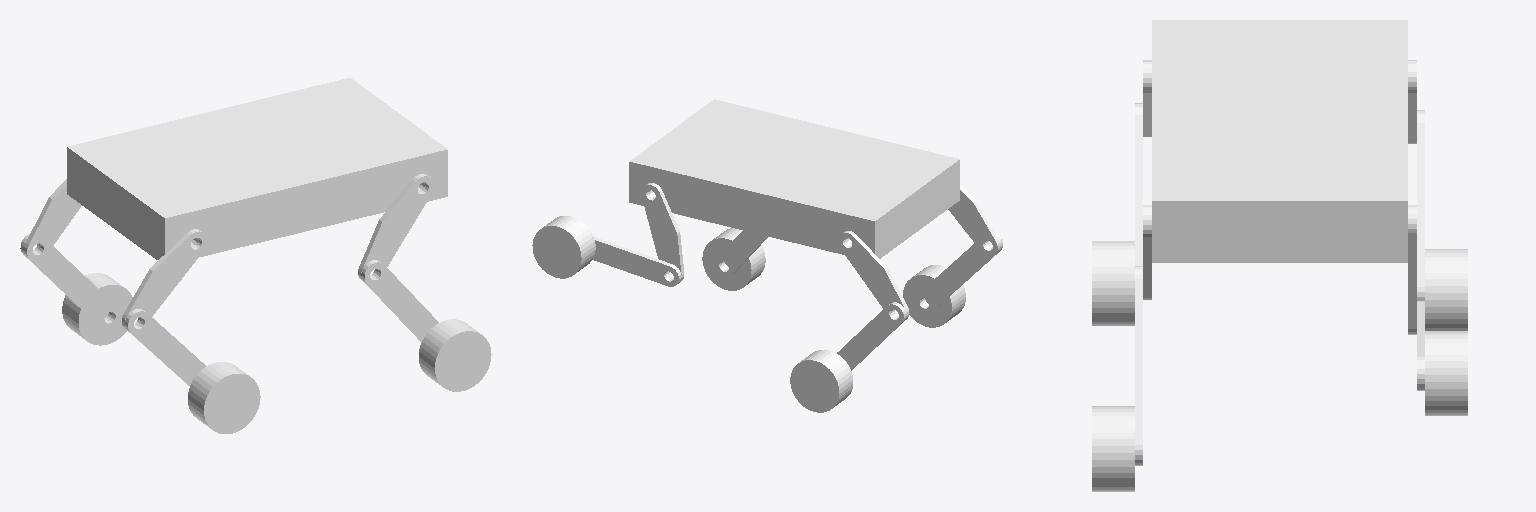
The robot description file, URDF, robot "FootWheel":
<?xml version="1.0" encoding="utf-8"?>
<!-- This URDF was automatically created by SolidWorks to URDF Exporter! Originally created by Stephen Brawner (brawner@gmail.com) 
     Commit Version: 1.6.0-4-g7f85cfe  Build Version: 1.6.7995.38578
     For more information, please see http://wiki.ros.org/sw_urdf_exporter -->
<robot
  name="FootWheel">
  <mujoco>
    <compiler meshdir="/home/phragmund/FootWheel/meshes" balanceinertia="true" discardvisual="false"/>
  </mujoco>
  
  <link name="world"></link>
  <joint name="floating_base_joint" type="floating">
    <parent link="world" />
    <child link="base_link" />
  </joint>
  <link
    name="base_link">
    <inertial>
      <origin
        xyz="-0.21102 0.16764 0.95856"
        rpy="0 0 0" />
      <mass
        value="12.048" />
      <inertia
        ixx="0.096862"
        ixy="1.9643E-18"
        ixz="5.982E-18"
        iyy="0.33766"
        iyz="1.9892E-18"
        izz="0.25381" />
    </inertial>
    <visual>
      <origin
        xyz="0 0 0"
        rpy="0 0 0" />
      <geometry>
        <mesh
          filename="package://FootWheel/meshes/base_link.STL" />
      </geometry>
      <material
        name="">
        <color
          rgba="1 1 1 1" />
      </material>
    </visual>
    <collision>
      <origin
        xyz="0 0 0"
        rpy="0 0 0" />
      <geometry>
        <mesh
          filename="package://FootWheel/meshes/base_link.STL" />
      </geometry>
    </collision>
  </link>
  <link
    name="LFU_Link">
    <inertial>
      <origin
        xyz="-0.075 -0.005 0.0033736"
        rpy="0 0 0" />
      <mass
        value="0.078366" />
      <inertia
        ixx="1.5653E-05"
        ixy="-6.4433E-22"
        ixz="4.3199E-20"
        iyy="0.00019382"
        iyz="7.1993E-22"
        izz="0.00017947" />
    </inertial>
    <visual>
      <origin
        xyz="0 0 0"
        rpy="0 0 0" />
      <geometry>
        <mesh
          filename="package://FootWheel/meshes/LFU_Link.STL" />
      </geometry>
      <material
        name="">
        <color
          rgba="1 1 1 1" />
      </material>
    </visual>
    <collision>
      <origin
        xyz="0 0 0"
        rpy="0 0 0" />
      <geometry>
        <mesh
          filename="package://FootWheel/meshes/LFU_Link.STL" />
      </geometry>
    </collision>
  </link>
  <joint
    name="LFU_J"
    type="revolute">
    <origin
      xyz="-0.011018 -0.79856 0.15749"
      rpy="0 -1.2831 0" />
    <parent
      link="base_link" />
    <child
      link="LFU_Link" />
    <axis
      xyz="0 1 0" />
    <limit
      lower="-1.57"
      upper="1.57"
      effort="100"
      velocity="2.01" />
  </joint>
  <link
    name="LFD_Link">
    <inertial>
      <origin
        xyz="0.1 0.005 -1.7347E-17"
        rpy="0 0 0" />
      <mass
        value="0.088009" />
      <inertia
        ixx="1.2735E-05"
        ixy="-1.786E-21"
        ixz="6.0457E-20"
        iyy="0.00037097"
        iyz="2.103E-22"
        izz="0.0003597" />
    </inertial>
    <visual>
      <origin
        xyz="0 0 0"
        rpy="0 0 0" />
      <geometry>
        <mesh
          filename="package://FootWheel/meshes/LFD_Link.STL" />
      </geometry>
      <material
        name="">
        <color
          rgba="1 1 1 1" />
      </material>
    </visual>
    <collision>
      <origin
        xyz="0 0 0"
        rpy="0 0 0" />
      <geometry>
        <mesh
          filename="package://FootWheel/meshes/LFD_Link.STL" />
      </geometry>
    </collision>
  </link>
  <joint
    name="LFD_J"
    type="revolute">
    <origin
      xyz="-0.15 0 0"
      rpy="0 1.1789 0" />
    <parent
      link="LFU_Link" />
    <child
      link="LFD_Link" />
    <axis
      xyz="0 1 0" />
    <limit
      lower="-1.57"
      upper="1.57"
      effort="100"
      velocity="2.01" />
  </joint>
  <link
    name="LFW_Link">
    <inertial>
      <origin
        xyz="-0.025161 -9.7145E-17 -5.5511E-17"
        rpy="0 0 0" />
      <mass
        value="0.39735" />
      <inertia
        ixx="0.00050053"
        ixy="-1.0594E-22"
        ixz="-6.7504E-22"
        iyy="0.0003324"
        iyz="2.0329E-20"
        izz="0.0003324" />
    </inertial>
    <visual>
      <origin
        xyz="0 0 0"
        rpy="0 0 0" />
      <geometry>
        <mesh
          filename="package://FootWheel/meshes/LFW_Link.STL" />
      </geometry>
      <material
        name="">
        <color
          rgba="1 1 1 1" />
      </material>
    </visual>
    <collision>
      <origin
        xyz="0 0 0"
        rpy="0 0 0" />
      <geometry>
        <mesh
          filename="package://FootWheel/meshes/LFW_Link.STL" />
      </geometry>
    </collision>
  </link>
  <joint
    name="LFW_J"
    type="continuous">
    <origin
      xyz="0.2 0.01 0"
      rpy="1.8597 0 -1.5708" />
    <parent
      link="LFD_Link" />
    <child
      link="LFW_Link" />
    <axis
      xyz="1 0 0" />
  </joint>
  <link
    name="LBU_Link">
    <inertial>
      <origin
        xyz="-0.075 -0.005 0.0033736"
        rpy="0 0 0" />
      <mass
        value="0.078366" />
      <inertia
        ixx="1.5653E-05"
        ixy="-2.006E-21"
        ixz="5.421E-20"
        iyy="0.00019382"
        iyz="7.8608E-22"
        izz="0.00017947" />
    </inertial>
    <visual>
      <origin
        xyz="0 0 0"
        rpy="0 0 0" />
      <geometry>
        <mesh
          filename="package://FootWheel/meshes/LBU_Link.STL" />
      </geometry>
      <material
        name="">
        <color
          rgba="1 1 1 1" />
      </material>
    </visual>
    <collision>
      <origin
        xyz="0 0 0"
        rpy="0 0 0" />
      <geometry>
        <mesh
          filename="package://FootWheel/meshes/LBU_Link.STL" />
      </geometry>
    </collision>
  </link>
  <joint
    name="LBU_J"
    type="revolute">
    <origin
      xyz="-0.41102 -0.79856 0.15749"
      rpy="0 -0.83872 0" />
    <parent
      link="base_link" />
    <child
      link="LBU_Link" />
    <axis
      xyz="0 1 0" />
    <limit
      lower="-1.57"
      upper="1.57"
      effort="100"
      velocity="2.01" />
  </joint>
  <link
    name="LBD_Link">
    <inertial>
      <origin
        xyz="0.1 0.005 0"
        rpy="0 0 0" />
      <mass
        value="0.088009" />
      <inertia
        ixx="1.2735E-05"
        ixy="-1.671E-21"
        ixz="7.2845E-20"
        iyy="0.00037097"
        iyz="-1.6344E-22"
        izz="0.0003597" />
    </inertial>
    <visual>
      <origin
        xyz="0 0 0"
        rpy="0 0 0" />
      <geometry>
        <mesh
          filename="package://FootWheel/meshes/LBD_Link.STL" />
      </geometry>
      <material
        name="">
        <color
          rgba="1 1 1 1" />
      </material>
    </visual>
    <collision>
      <origin
        xyz="0 0 0"
        rpy="0 0 0" />
      <geometry>
        <mesh
          filename="package://FootWheel/meshes/LBD_Link.STL" />
      </geometry>
    </collision>
  </link>
  <joint
    name="LBD_J"
    type="revolute">
    <origin
      xyz="-0.15 0 0"
      rpy="3.1416 1.4555 3.1416" />
    <parent
      link="LBU_Link" />
    <child
      link="LBD_Link" />
    <axis
      xyz="0 1 0" />
    <limit
      lower="-1.57"
      upper="1.57"
      effort="100"
      velocity="2.01" />
  </joint>
  <link
    name="LBW_Link">
    <inertial>
      <origin
        xyz="-0.025161 -1.3323E-15 -2.1649E-15"
        rpy="0 0 0" />
      <mass
        value="0.39735" />
      <inertia
        ixx="0.00050053"
        ixy="-1.5021E-21"
        ixz="7.3332E-21"
        iyy="0.0003324"
        iyz="0"
        izz="0.0003324" />
    </inertial>
    <visual>
      <origin
        xyz="0 0 0"
        rpy="0 0 0" />
      <geometry>
        <mesh
          filename="package://FootWheel/meshes/LBW_Link.STL" />
      </geometry>
      <material
        name="">
        <color
          rgba="1 1 1 1" />
      </material>
    </visual>
    <collision>
      <origin
        xyz="0 0 0"
        rpy="0 0 0" />
      <geometry>
        <mesh
          filename="package://FootWheel/meshes/LBW_Link.STL" />
      </geometry>
    </collision>
  </link>
  <joint
    name="LBW_J"
    type="continuous">
    <origin
      xyz="0.2 0.01 0"
      rpy="2.6504 0 -1.5708" />
    <parent
      link="LBD_Link" />
    <child
      link="LBW_Link" />
    <axis
      xyz="1 0 0" />
  </joint>
  <link
    name="RFU_Link">
    <inertial>
      <origin
        xyz="-0.075 -0.005 0.0033736"
        rpy="0 0 0" />
      <mass
        value="0.078366" />
      <inertia
        ixx="1.5653E-05"
        ixy="-1.9913E-21"
        ixz="-4.7857E-20"
        iyy="0.00019382"
        iyz="1.3933E-21"
        izz="0.00017947" />
    </inertial>
    <visual>
      <origin
        xyz="0 0 0"
        rpy="0 0 0" />
      <geometry>
        <mesh
          filename="package://FootWheel/meshes/RFU_Link.STL" />
      </geometry>
      <material
        name="">
        <color
          rgba="1 1 1 1" />
      </material>
    </visual>
    <collision>
      <origin
        xyz="0 0 0"
        rpy="0 0 0" />
      <geometry>
        <mesh
          filename="package://FootWheel/meshes/RFU_Link.STL" />
      </geometry>
    </collision>
  </link>
  <joint
    name="RFU_J"
    type="revolute">
    <origin
      xyz="-0.011018 -1.1086 0.15749"
      rpy="0 -0.93229 0" />
    <parent
      link="base_link" />
    <child
      link="RFU_Link" />
    <axis
      xyz="0 1 0" />
    <limit
      lower="-1.57"
      upper="1.57"
      effort="100"
      velocity="2.01" />
  </joint>
  <link
    name="RFD_Link">
    <inertial>
      <origin
        xyz="0.1 -0.005 1.3878E-17"
        rpy="0 0 0" />
      <mass
        value="0.088009" />
      <inertia
        ixx="1.2735E-05"
        ixy="-1.2773E-21"
        ixz="2.9646E-20"
        iyy="0.00037097"
        iyz="-1.2615E-21"
        izz="0.0003597" />
    </inertial>
    <visual>
      <origin
        xyz="0 0 0"
        rpy="0 0 0" />
      <geometry>
        <mesh
          filename="package://FootWheel/meshes/RFD_Link.STL" />
      </geometry>
      <material
        name="">
        <color
          rgba="1 1 1 1" />
      </material>
    </visual>
    <collision>
      <origin
        xyz="0 0 0"
        rpy="0 0 0" />
      <geometry>
        <mesh
          filename="package://FootWheel/meshes/RFD_Link.STL" />
      </geometry>
    </collision>
  </link>
  <joint
    name="RFD_J"
    type="revolute">
    <origin
      xyz="-0.15 -0.01 0"
      rpy="3.1416 1.316 3.1416" />
    <parent
      link="RFU_Link" />
    <child
      link="RFD_Link" />
    <axis
      xyz="0 1 0" />
    <limit
      lower="-1.57"
      upper="1.57"
      effort="100"
      velocity="2.01" />
  </joint>
  <link
    name="RFW_Link">
    <inertial>
      <origin
        xyz="-0.025161 -3.8858E-16 2.4633E-16"
        rpy="0 0 0" />
      <mass
        value="0.39735" />
      <inertia
        ixx="0.00050053"
        ixy="-9.8849E-37"
        ixz="-7.7659E-22"
        iyy="0.0003324"
        iyz="-2.0666E-38"
        izz="0.0003324" />
    </inertial>
    <visual>
      <origin
        xyz="0 0 0"
        rpy="0 0 0" />
      <geometry>
        <mesh
          filename="package://FootWheel/meshes/RFW_Link.STL" />
      </geometry>
      <material
        name="">
        <color
          rgba="1 1 1 1" />
      </material>
    </visual>
    <collision>
      <origin
        xyz="0 0 0"
        rpy="0 0 0" />
      <geometry>
        <mesh
          filename="package://FootWheel/meshes/RFW_Link.STL" />
      </geometry>
    </collision>
  </link>
  <joint
    name="RFW_J"
    type="continuous">
    <origin
      xyz="0.2 -0.01 0"
      rpy="0.67746 0 1.5708" />
    <parent
      link="RFD_Link" />
    <child
      link="RFW_Link" />
    <axis
      xyz="1 0 0" />
  </joint>
  <link
    name="RBU_Link">
    <inertial>
      <origin
        xyz="0.075 0.005 0.0033736"
        rpy="0 0 0" />
      <mass
        value="0.078366" />
      <inertia
        ixx="1.5653E-05"
        ixy="-1.442E-21"
        ixz="1.152E-19"
        iyy="0.00019382"
        iyz="1.092E-21"
        izz="0.00017947" />
    </inertial>
    <visual>
      <origin
        xyz="0 0 0"
        rpy="0 0 0" />
      <geometry>
        <mesh
          filename="package://FootWheel/meshes/RBU_Link.STL" />
      </geometry>
      <material
        name="">
        <color
          rgba="1 1 1 1" />
      </material>
    </visual>
    <collision>
      <origin
        xyz="0 0 0"
        rpy="0 0 0" />
      <geometry>
        <mesh
          filename="package://FootWheel/meshes/RBU_Link.STL" />
      </geometry>
    </collision>
  </link>
  <joint
    name="RBU_J"
    type="revolute">
    <origin
      xyz="-0.41102 -1.1086 0.15749"
      rpy="0 0.77945 -3.1416" />
    <parent
      link="base_link" />
    <child
      link="RBU_Link" />
    <axis
      xyz="0 -1 0" />
    <limit
      lower="-1.57"
      upper="1.57"
      effort="100"
      velocity="2.01" />
  </joint>
  <link
    name="RBD_Link">
    <inertial>
      <origin
        xyz="0.1 0.005 1.6653E-16"
        rpy="0 0 0" />
      <mass
        value="0.088009" />
      <inertia
        ixx="1.2735E-05"
        ixy="6.0246E-22"
        ixz="-7.6614E-19"
        iyy="0.00037097"
        iyz="-1.7898E-21"
        izz="0.0003597" />
    </inertial>
    <visual>
      <origin
        xyz="0 0 0"
        rpy="0 0 0" />
      <geometry>
        <mesh
          filename="package://FootWheel/meshes/RBD_Link.STL" />
      </geometry>
      <material
        name="">
        <color
          rgba="1 1 1 1" />
      </material>
    </visual>
    <collision>
      <origin
        xyz="0 0 0"
        rpy="0 0 0" />
      <geometry>
        <mesh
          filename="package://FootWheel/meshes/RBD_Link.STL" />
      </geometry>
    </collision>
  </link>
  <joint
    name="RBD_J"
    type="revolute">
    <origin
      xyz="0.15 0.01 0"
      rpy="0 1.5329 0" />
    <parent
      link="RBU_Link" />
    <child
      link="RBD_Link" />
    <axis
      xyz="0 1 0" />
    <limit
      lower="-1.57"
      upper="1.57"
      effort="100"
      velocity="2.01" />
  </joint>
  <link
    name="RBW_Link">
    <inertial>
      <origin
        xyz="-0.025161 1.3878E-17 0"
        rpy="0 0 0" />
      <mass
        value="0.39735" />
      <inertia
        ixx="0.00050053"
        ixy="-9.8849E-37"
        ixz="2.2476E-20"
        iyy="0.0003324"
        iyz="-2.0666E-38"
        izz="0.0003324" />
    </inertial>
    <visual>
      <origin
        xyz="0 0 0"
        rpy="0 0 0" />
      <geometry>
        <mesh
          filename="package://FootWheel/meshes/RBW_Link.STL" />
      </geometry>
      <material
        name="">
        <color
          rgba="1 1 1 1" />
      </material>
    </visual>
    <collision>
      <origin
        xyz="0 0 0"
        rpy="0 0 0" />
      <geometry>
        <mesh
          filename="package://FootWheel/meshes/RBW_Link.STL" />
      </geometry>
    </collision>
  </link>
  <joint
    name="RBW_J"
    type="continuous">
    <origin
      xyz="0.2 0.01 0"
      rpy="-2.4 0 -1.5708" />
    <parent
      link="RBD_Link" />
    <child
      link="RBW_Link" />
    <axis
      xyz="1 0 0" />
  </joint>
</robot>

--- Facts derived from the render (not from the file) ---
The picture shows the robot from 3 angles, left to right: view 1: azimuth 30°, elevation 25°; view 2: azimuth 150°, elevation 25°; view 3: azimuth 270°, elevation 25°; orthographic projection.
Robot: FootWheel — 14 links, 13 joints (8 revolute, 4 continuous, 1 floating); root link world; default pose: every joint at zero.
Links seen in each view (by area): view 1: base_link, RFW_Link, RBW_Link, RFU_Link, RBU_Link, LBD_Link, RFD_Link, RBD_Link, LBW_Link, LBU_Link; view 2: base_link, LBW_Link, LFW_Link, LBU_Link, LFU_Link, RBD_Link, LFD_Link, RFW_Link, RBW_Link, LBD_Link, RBU_Link, RFD_Link; view 3: base_link, RFW_Link, LFW_Link, RBW_Link, LBW_Link, RFD_Link, LBD_Link, RBD_Link, LFU_Link, RFU_Link, LBU_Link, LFD_Link (+1 smaller).
Boxes of the visible links, left/top/right/bottom form: base_link: left=67, top=78, right=447, bottom=259; RFW_Link: left=419, top=319, right=491, bottom=391; RBW_Link: left=188, top=362, right=260, bottom=433; RFU_Link: left=358, top=174, right=433, bottom=281; RBU_Link: left=122, top=229, right=207, bottom=329; LBD_Link: left=20, top=234, right=120, bottom=329; RFD_Link: left=361, top=260, right=438, bottom=342; RBD_Link: left=125, top=309, right=205, bottom=385; LBW_Link: left=62, top=273, right=132, bottom=345; LBU_Link: left=24, top=179, right=81, bottom=260; base_link: left=629, top=99, right=959, bottom=258; LBW_Link: left=790, top=350, right=852, bottom=412; LFW_Link: left=532, top=216, right=595, bottom=278; LBU_Link: left=838, top=231, right=909, bottom=319; LFU_Link: left=641, top=183, right=683, bottom=281; RBD_Link: left=915, top=232, right=1002, bottom=313; LFD_Link: left=593, top=236, right=681, bottom=286; RFW_Link: left=702, top=228, right=765, bottom=290; RBW_Link: left=903, top=265, right=965, bottom=327; LBD_Link: left=837, top=302, right=906, bottom=370; RBU_Link: left=948, top=186, right=1000, bottom=255; RFD_Link: left=714, top=231, right=767, bottom=276; base_link: left=1152, top=20, right=1407, bottom=262; RFW_Link: left=1092, top=406, right=1134, bottom=491; LFW_Link: left=1425, top=331, right=1467, bottom=415; RBW_Link: left=1092, top=241, right=1134, bottom=325; LBW_Link: left=1425, top=249, right=1467, bottom=330; RFD_Link: left=1135, top=266, right=1142, bottom=465; LBD_Link: left=1417, top=110, right=1424, bottom=300; RBD_Link: left=1135, top=103, right=1142, bottom=265; LFU_Link: left=1408, top=205, right=1416, bottom=334; RFU_Link: left=1143, top=205, right=1151, bottom=299; LBU_Link: left=1408, top=60, right=1416, bottom=143; LFD_Link: left=1417, top=301, right=1424, bottom=390.
Size in the robot's own frame: 0.7329 by 0.44 by 0.3761 metres.
13 mesh visuals loaded from 13 distinct referenced files (13 binary STL).
